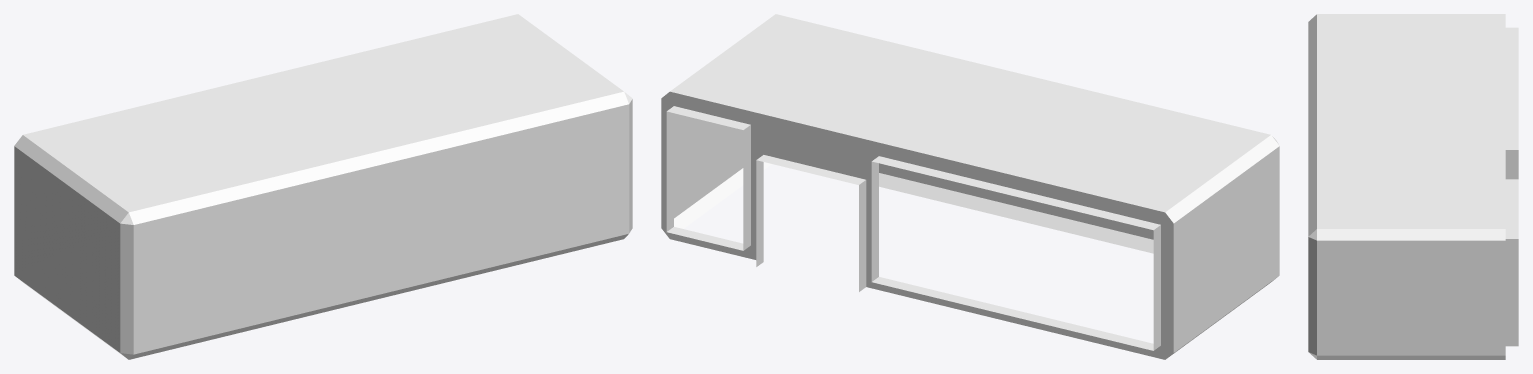
File: MiscRoom_01_Walls.fbx
The picture shows the model from 3 angles, left to right: view 1: azimuth 30°, elevation 25°; view 2: azimuth 150°, elevation 25°; view 3: azimuth 270°, elevation 25°; orthographic projection. The views are drawn at different scales.
Parts seen in each view (by area): view 1: MiscRoom_01_Walls; view 2: MiscRoom_01_Walls; view 3: MiscRoom_01_Walls.
Part boxes in pixels (bbox=[...]): MiscRoom_01_Walls: bbox=[14, 14, 632, 359]; MiscRoom_01_Walls: bbox=[661, 14, 1279, 359]; MiscRoom_01_Walls: bbox=[1308, 14, 1518, 359].
Bounding box in the file's own units: 4000 × 1100 × 1600.
